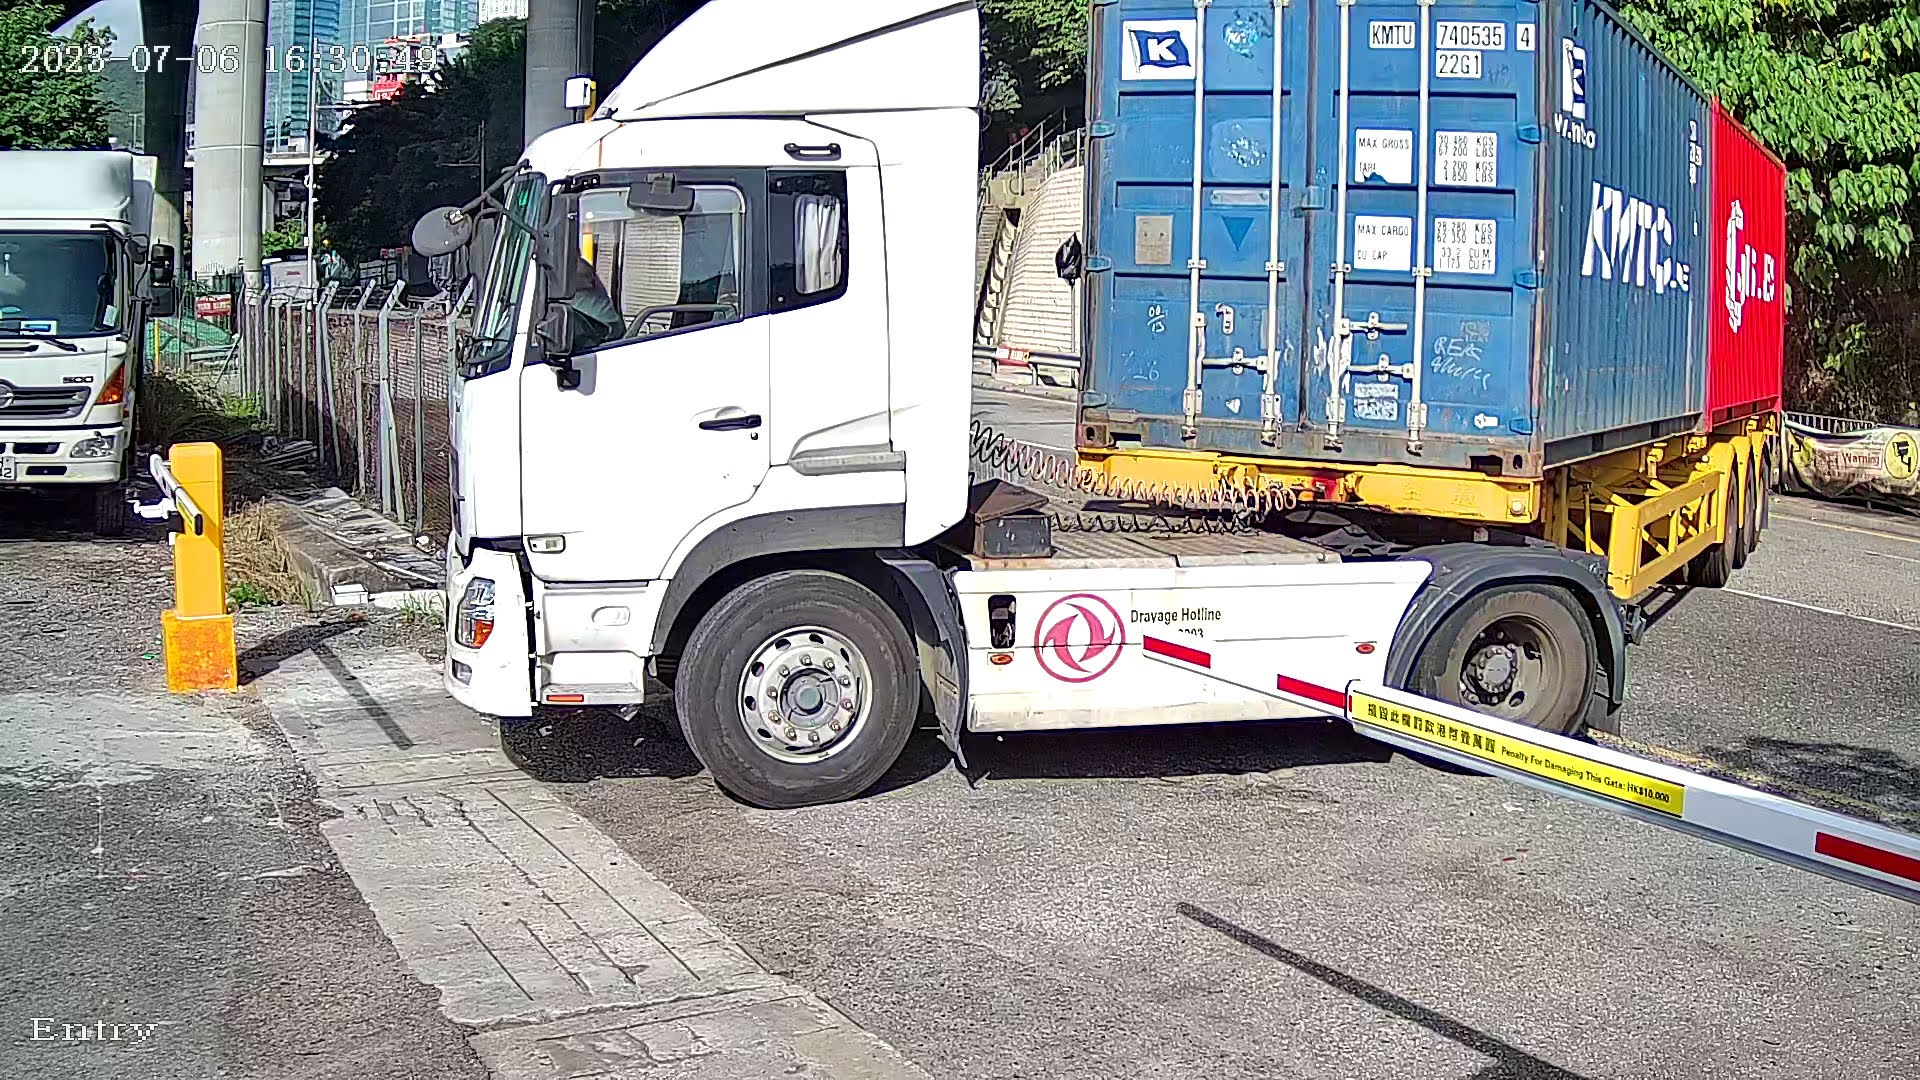truck: (378, 1, 1828, 895)
